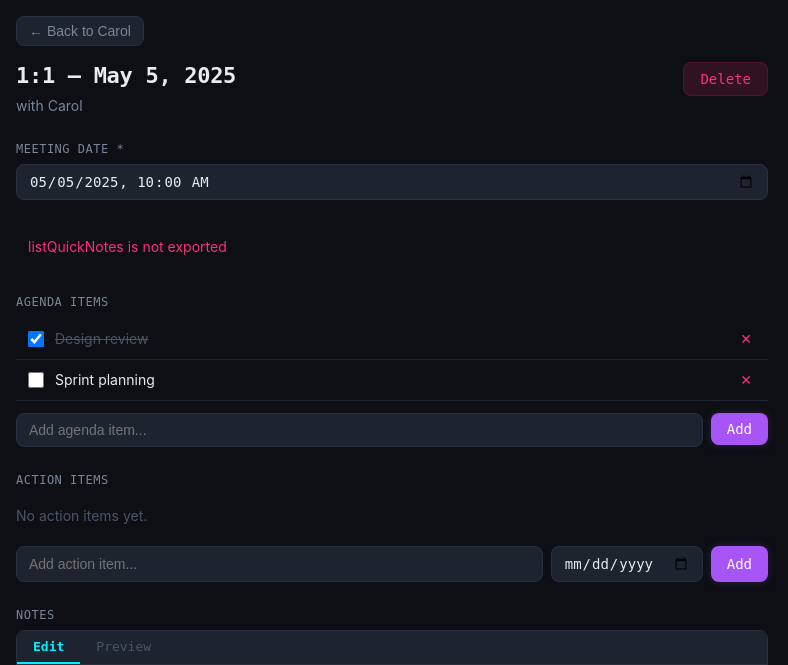
Scenario: OneOnOneEntryDetailPage › should cancel delete when cancel button is clicked
What coordinates should you click on to do the following:
click the button with test id "delete-entry-button"
I would click on:
 (726, 79)
Its box is left=683, top=62, right=768, bottom=96.
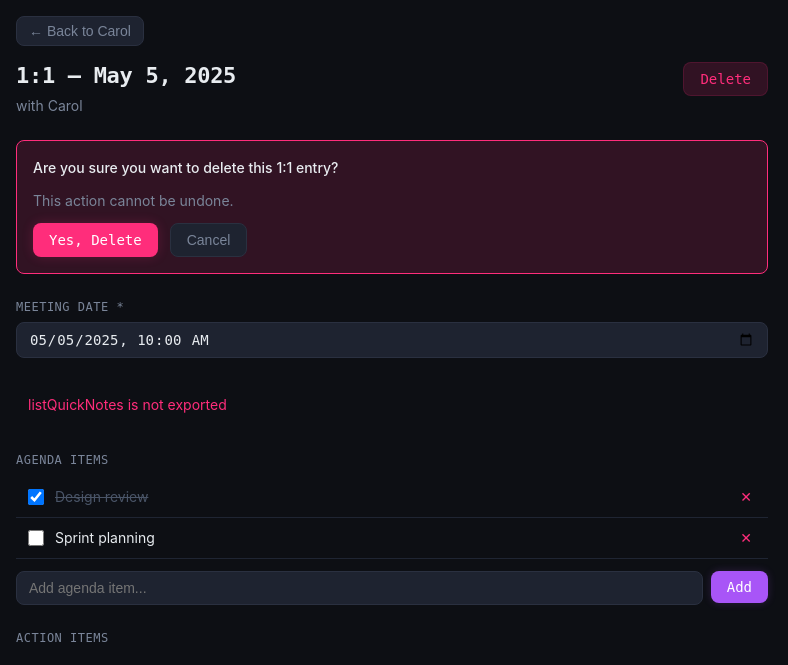
Expected: the element with test id "delete-entry-confirmation" is shown, left=16, top=140, right=768, bottom=274
What coordinates should you click on to do the following:
click the button with test id "cancel-delete-entry-button"
I would click on:
 (208, 240)
Its box is left=170, top=223, right=247, bottom=257.
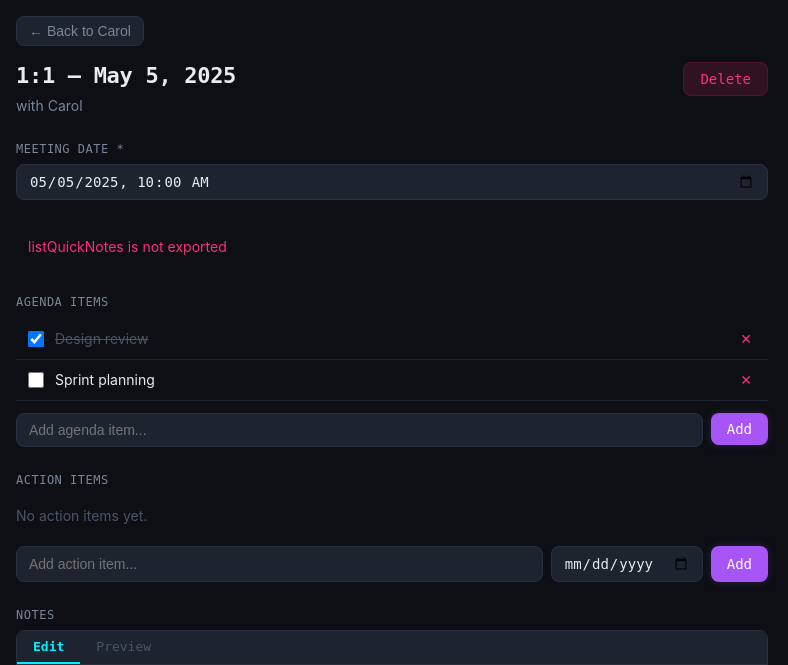
Expected: the element with test id "delete-entry-confirmation" is gone
